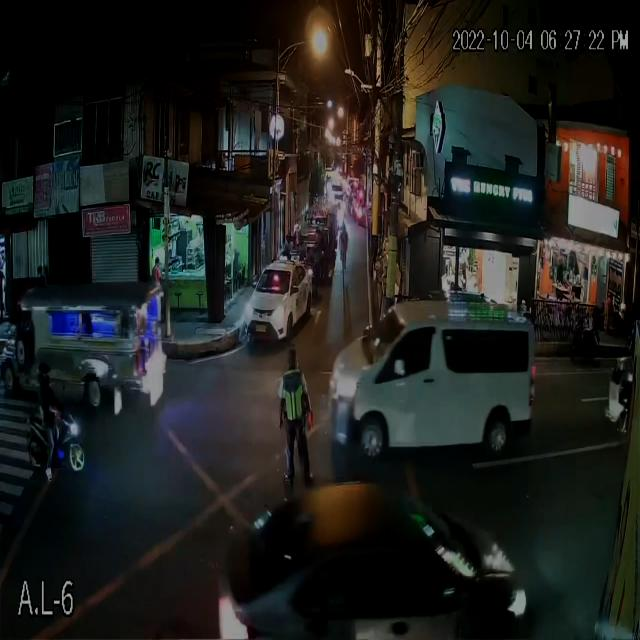Full-Faced: (37, 361, 51, 382)
